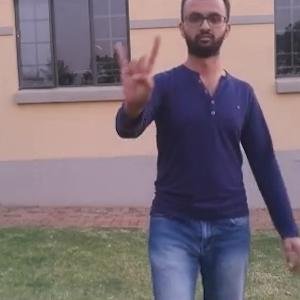takeoff-hand: (109, 27, 166, 108)
